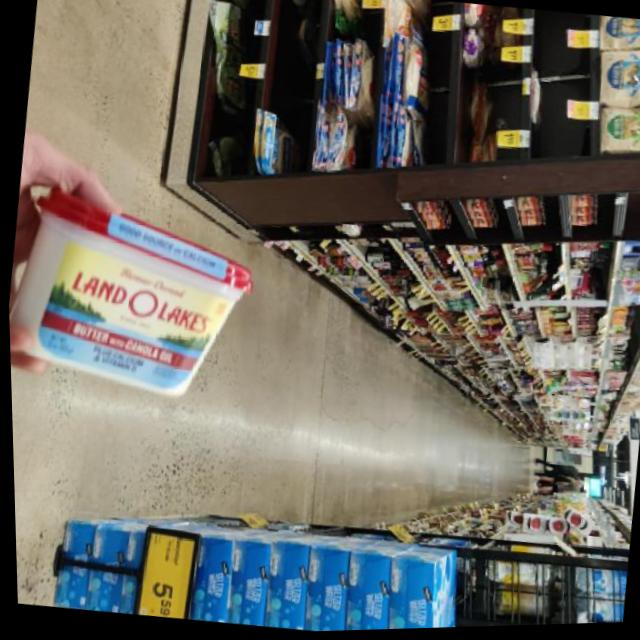Butter: (4, 180, 276, 409)
